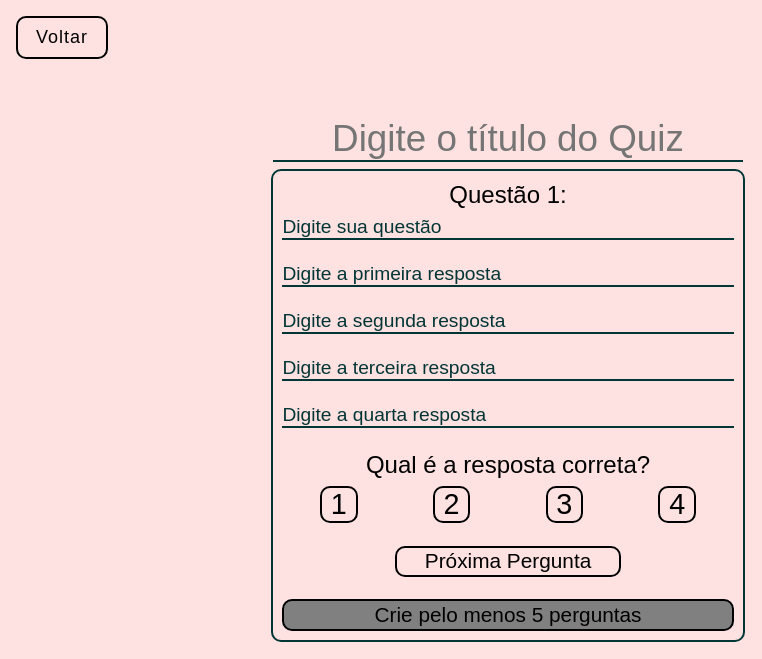
Test: Register › allows to create a question
Type "Qual é a capital do Brasil?" into the field with placeholder "Digite sua questão".
click(508, 228); type("Qual é a capital do Brasil?")  # box [282,216,734,240]
Type "São Paulo" into the field with placeholder "Digite a primeira resposta".
click(508, 275); type("São Paulo")  # box [282,263,734,287]
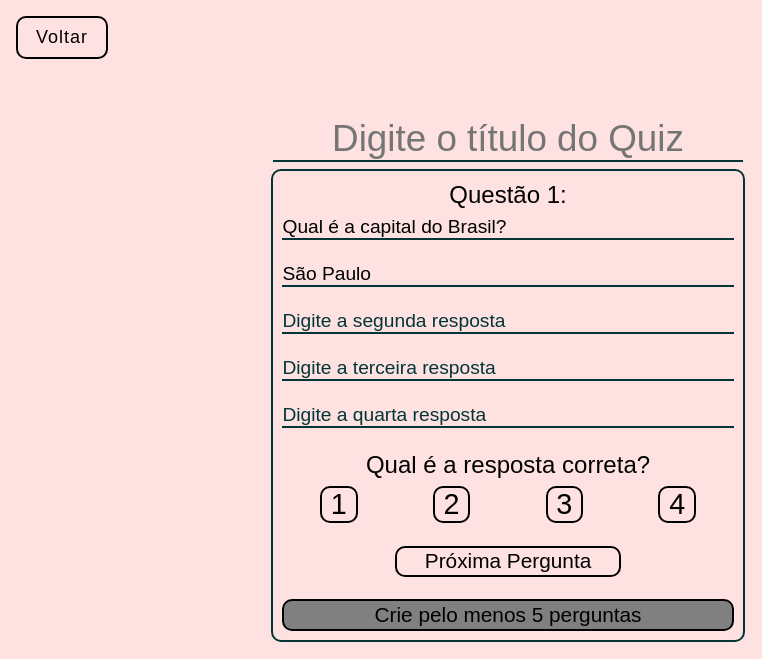
Type "Rio de Janeiro" into the field with placeholder "Digite a segunda resposta".
click(508, 322); type("Rio de Janeiro")  # box [282,310,734,334]
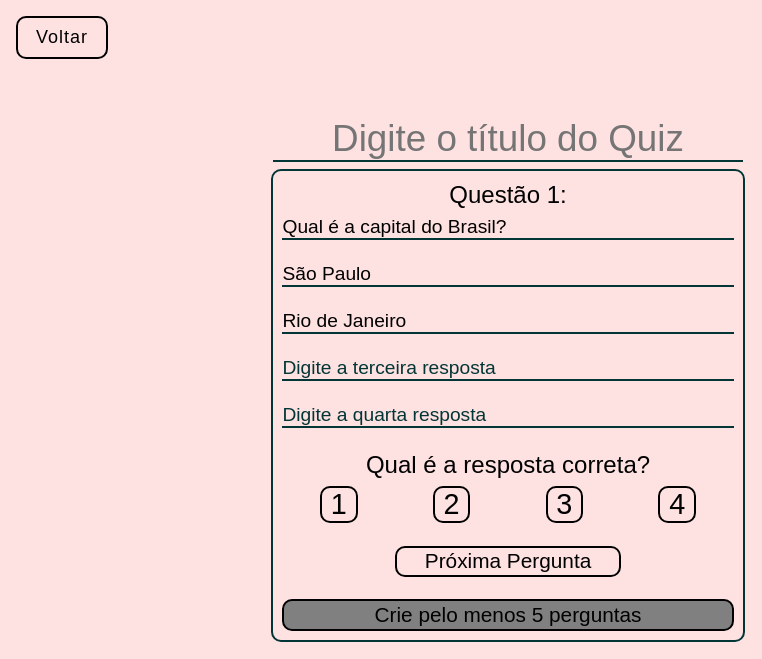
Type "Brasília" into the field with placeholder "Digite a terceira resposta".
click(508, 369); type("Brasília")  # box [282,357,734,381]
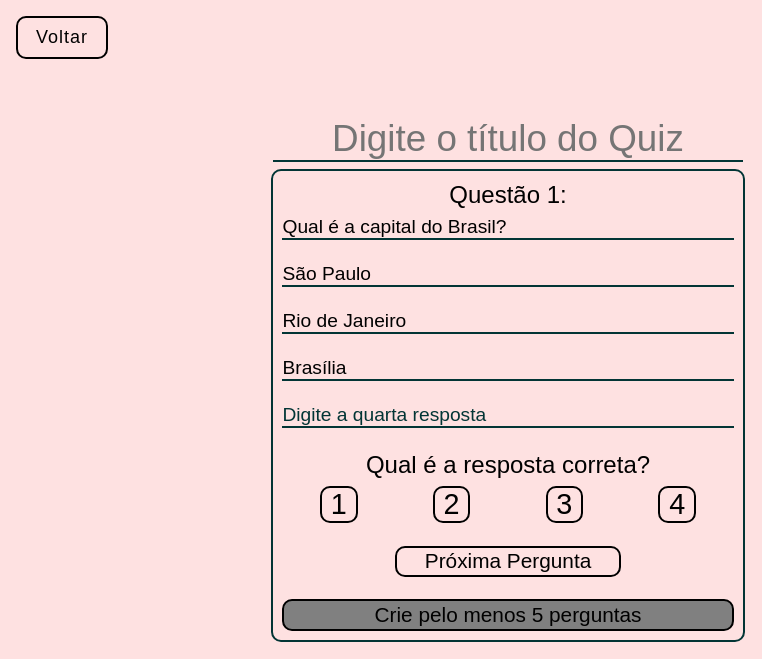
Type "Salvador" into the field with placeholder "Digite a quarta resposta".
click(508, 416); type("Salvador")  # box [282,404,734,428]
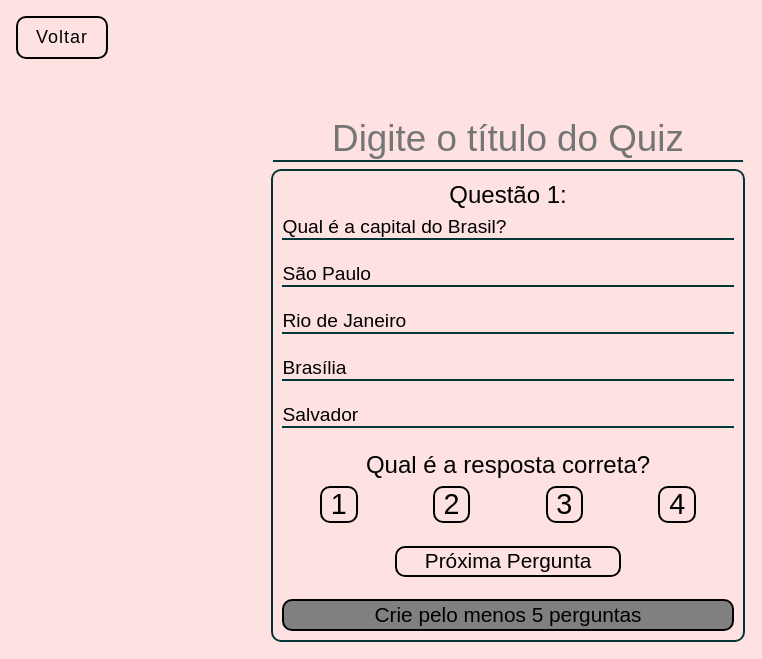
Click the button "3".
click(564, 505)  # box [546,486,583,523]
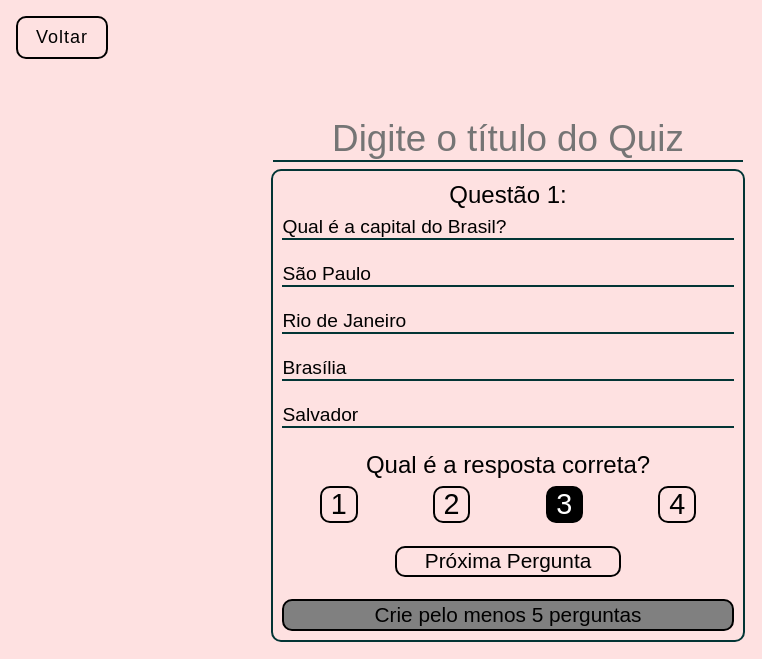
Click the button "Próxima Pergunta".
click(508, 561)  # box [395,546,621,577]
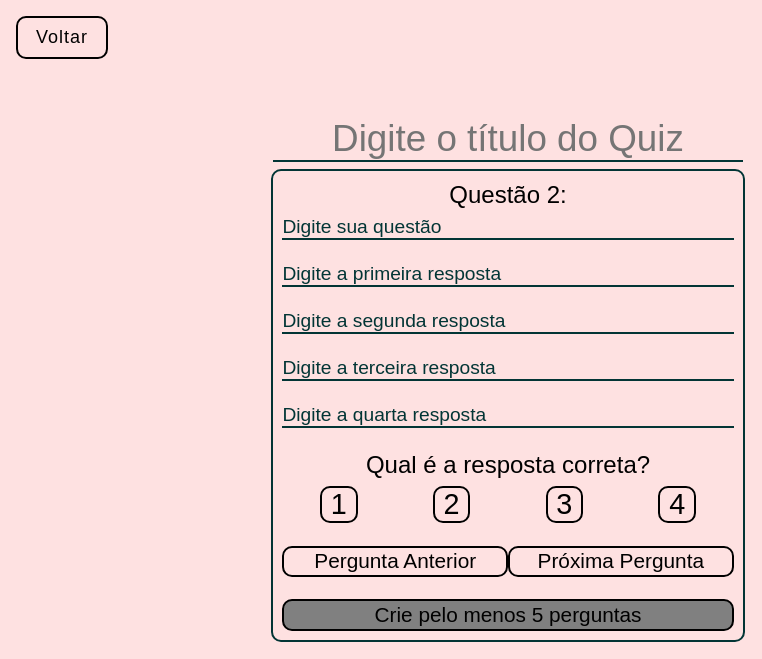
Result: the text "Questão 2:" is shown at [449,181,567,208]
